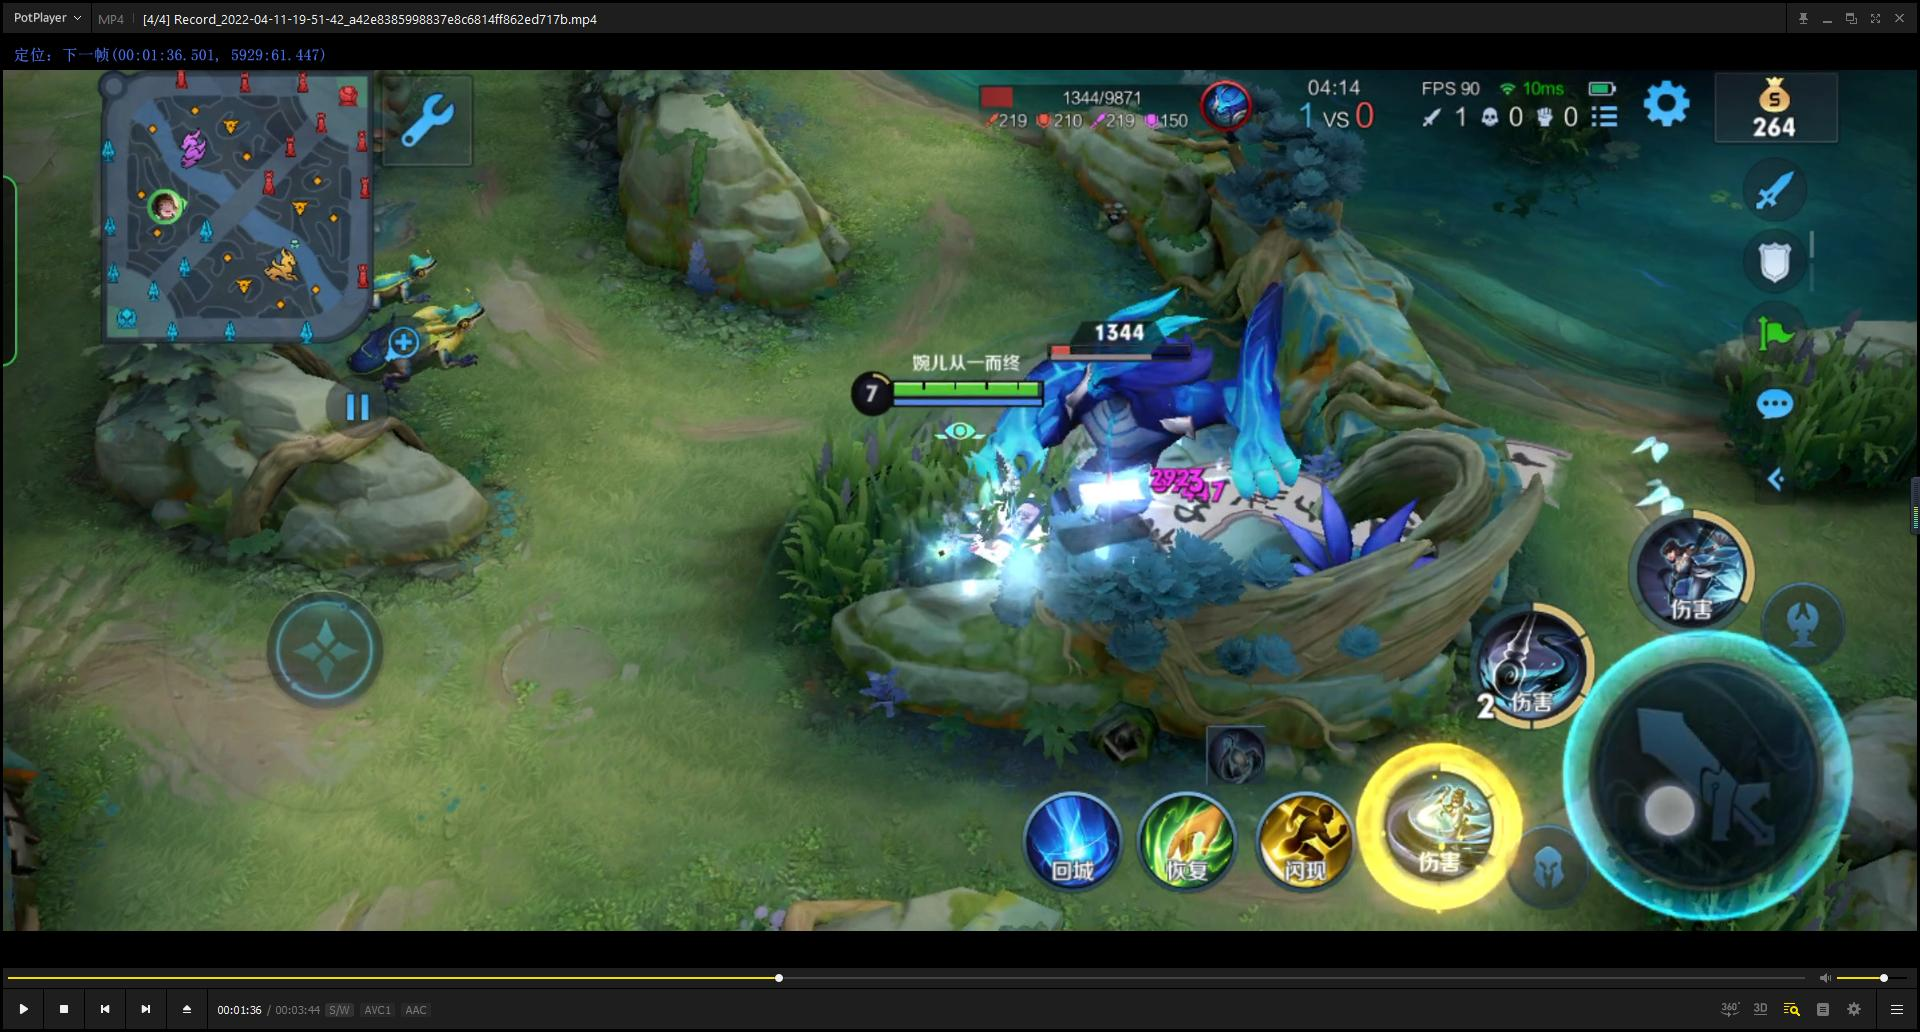Buff: (950, 272, 1313, 578)
Lizard: (362, 282, 499, 393), (374, 241, 460, 311)
